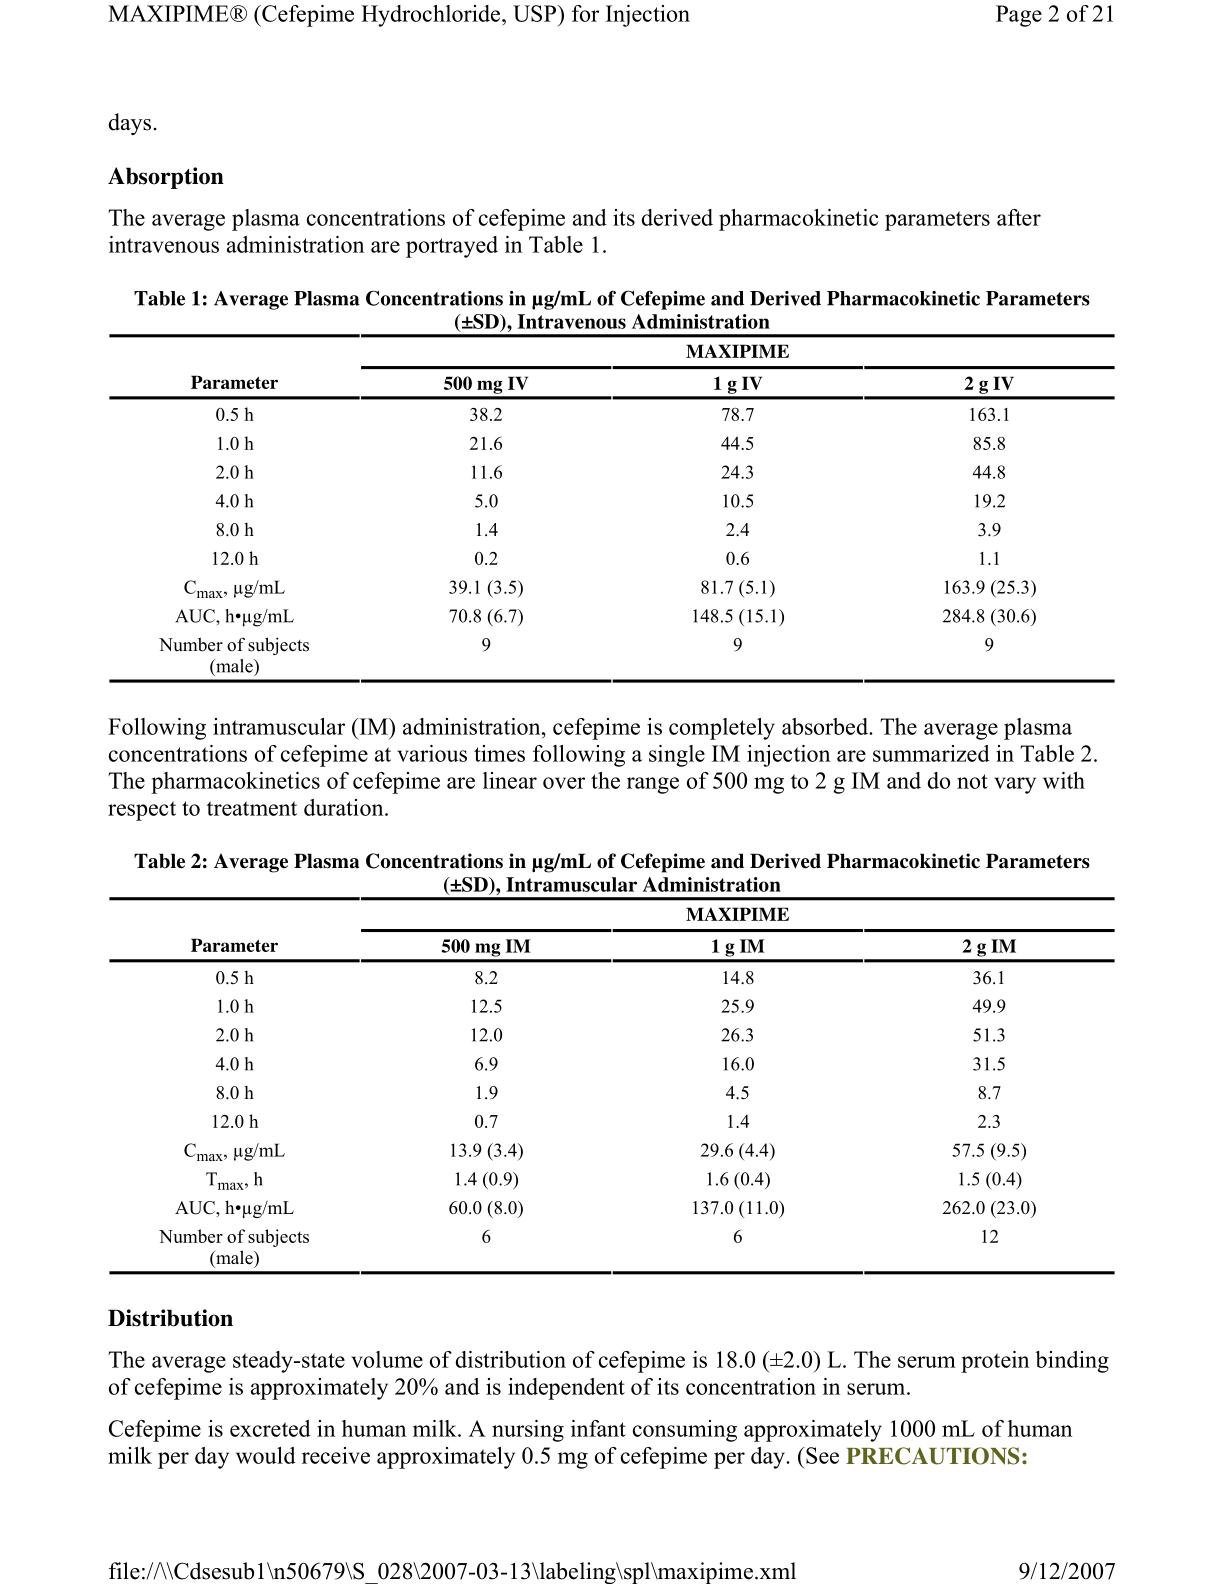partial_lined_merged_cells: (105, 896, 1116, 1275), (107, 333, 1116, 684)
